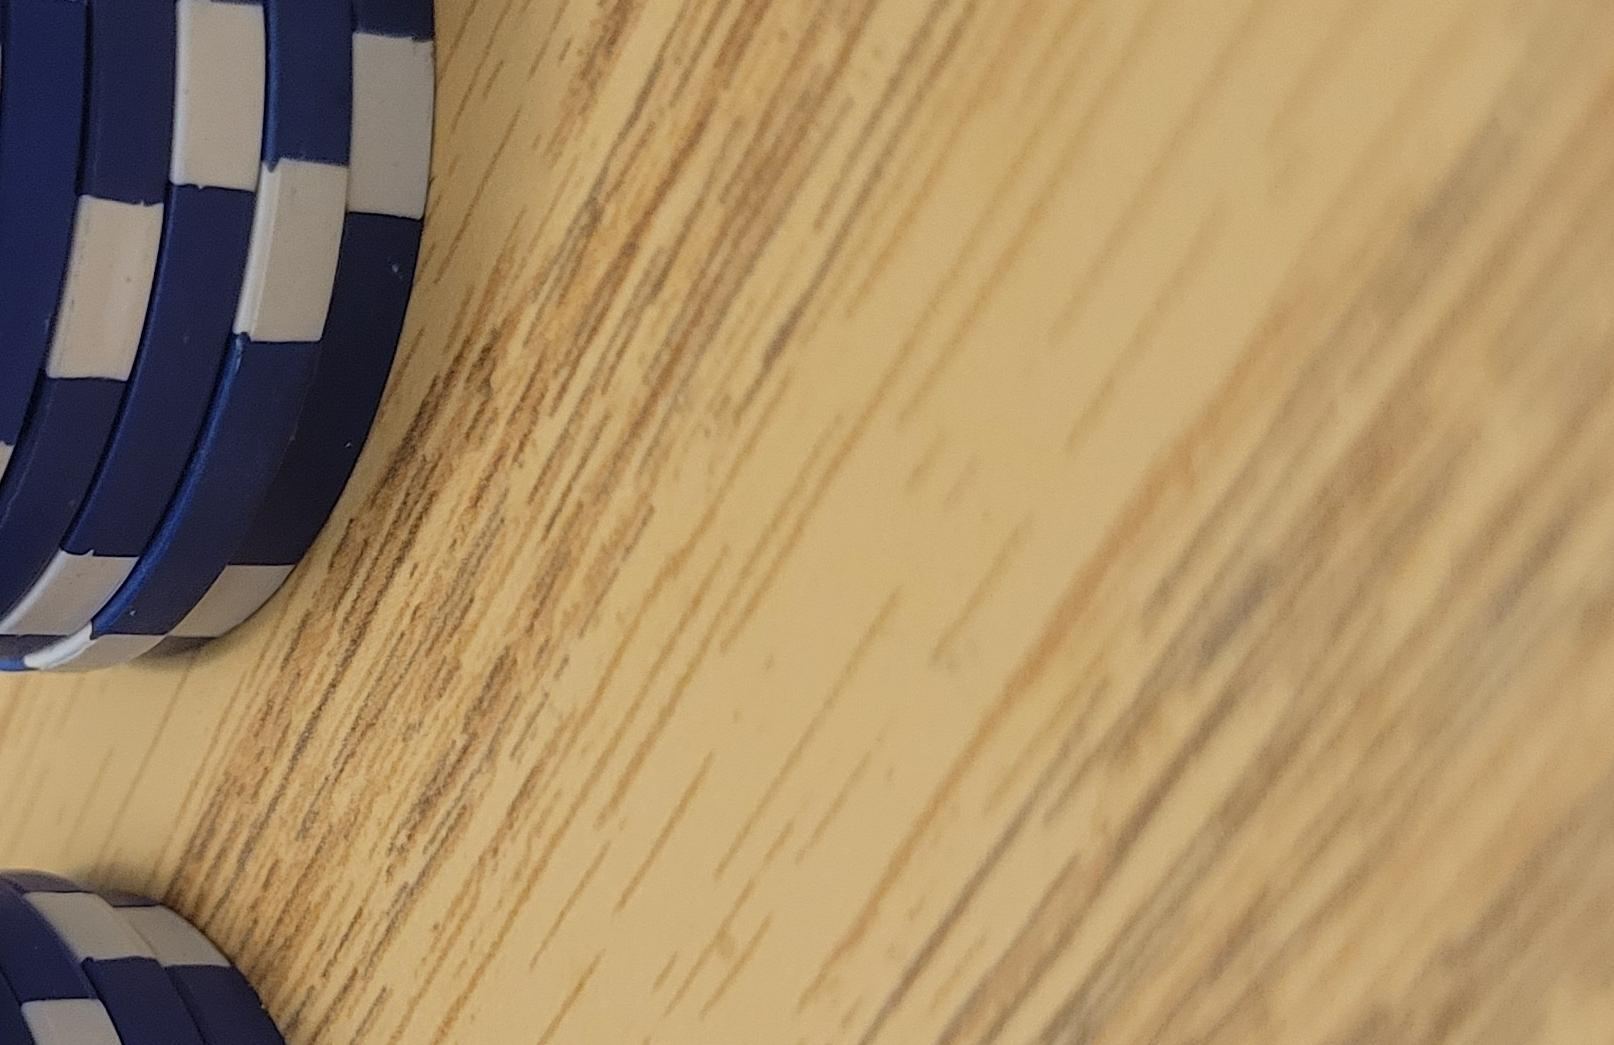Chip: (1, 277, 718, 1045)
